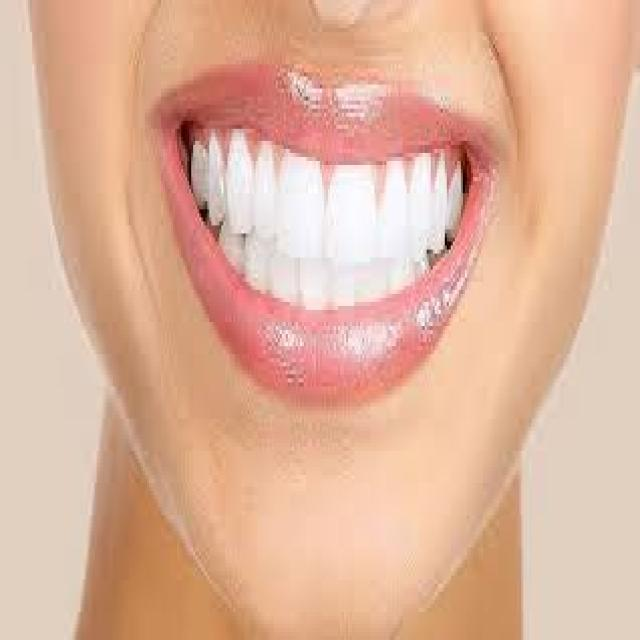tooth: (320, 157, 374, 258), (414, 157, 465, 258), (280, 153, 322, 266), (226, 113, 256, 229), (381, 161, 408, 266), (256, 145, 276, 233), (210, 129, 226, 225), (187, 137, 203, 193)
